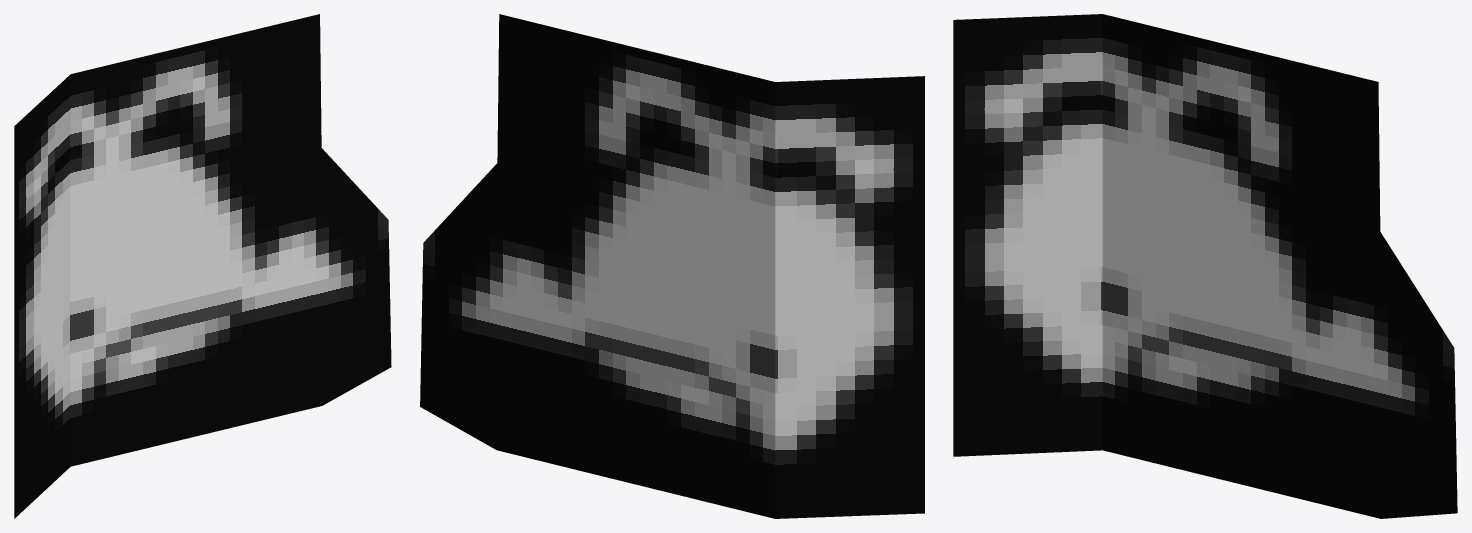
The model's file is pollution04.dae.
3 views of the same model, side by side, from view 1: azimuth 30°, elevation 25°; view 2: azimuth 150°, elevation 25°; view 3: azimuth 330°, elevation 25° (orthographic). The views are drawn at different scales.
Visible parts, largest first — view 1: m0; view 2: m0; view 3: m0.
Part boxes in pixels (left/top/right/bottom): m0: left=14, top=14, right=391, bottom=518; m0: left=420, top=14, right=924, bottom=518; m0: left=953, top=14, right=1457, bottom=518.
Bounding box in the file's own units: 1078 × 975 × 176.
Materials: 1 (1 with a texture image).
